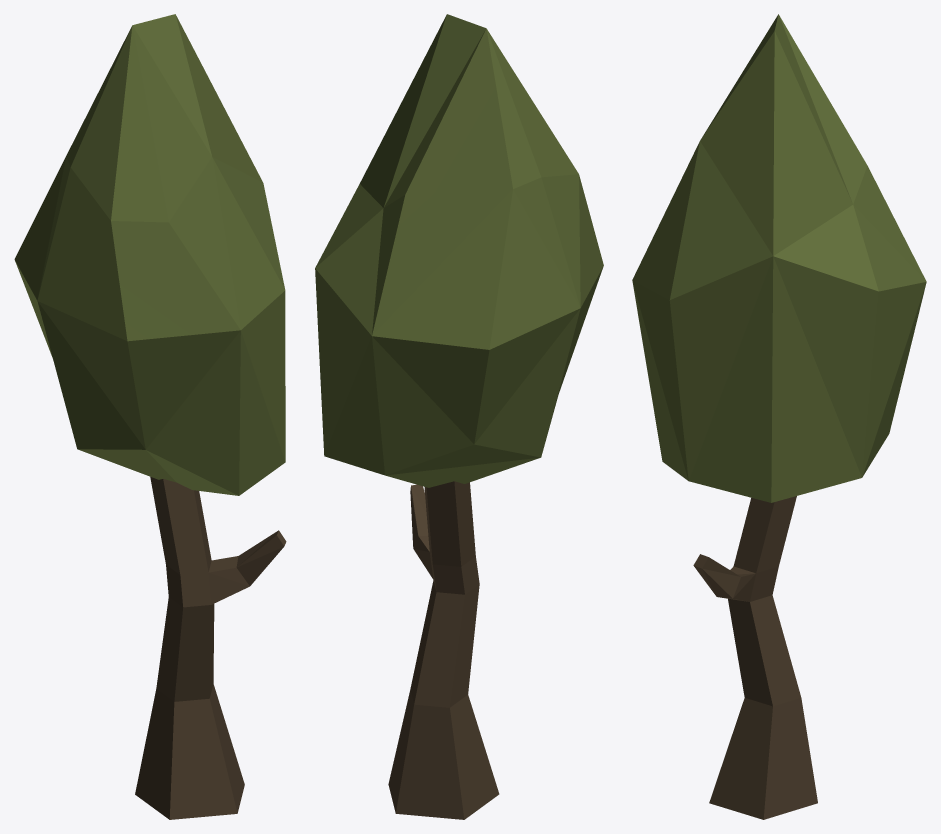
The model's file is SM_Env_Tree_010.gltf.
The picture shows the model from 3 angles, left to right: view 1: azimuth 30°, elevation 25°; view 2: azimuth 150°, elevation 25°; view 3: azimuth 270°, elevation 25°; orthographic projection. The views are drawn at different scales.
Visible parts, largest first — view 1: SM_Env_Tree_010; view 2: SM_Env_Tree_010; view 3: SM_Env_Tree_010.
Part boxes in pixels (left/top/right/bottom): SM_Env_Tree_010: left=14, top=14, right=286, bottom=819; SM_Env_Tree_010: left=315, top=14, right=603, bottom=819; SM_Env_Tree_010: left=632, top=14, right=926, bottom=819.
Bounding box in the file's own units: 1.9 × 6.07 × 2.13.
Materials: 1 (1 with a texture image).
